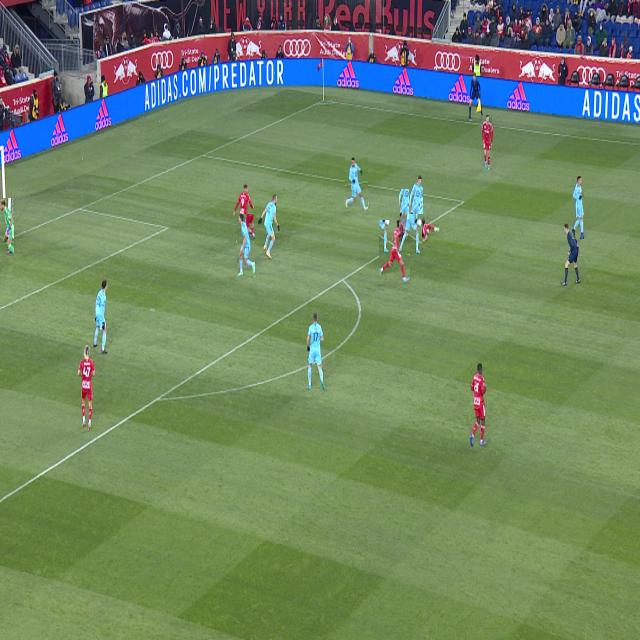goalkeeper: (0, 198, 14, 255)
player: (379, 221, 410, 284), (399, 189, 422, 254), (78, 345, 95, 431), (258, 194, 280, 259), (470, 363, 487, 447), (307, 312, 325, 391), (233, 184, 254, 243), (346, 157, 368, 211), (93, 280, 108, 355), (238, 214, 255, 276), (572, 176, 584, 239), (416, 219, 440, 242), (409, 175, 423, 214), (483, 116, 492, 171), (412, 206, 421, 239), (492, 147, 492, 147)
referee: (560, 224, 580, 285)
